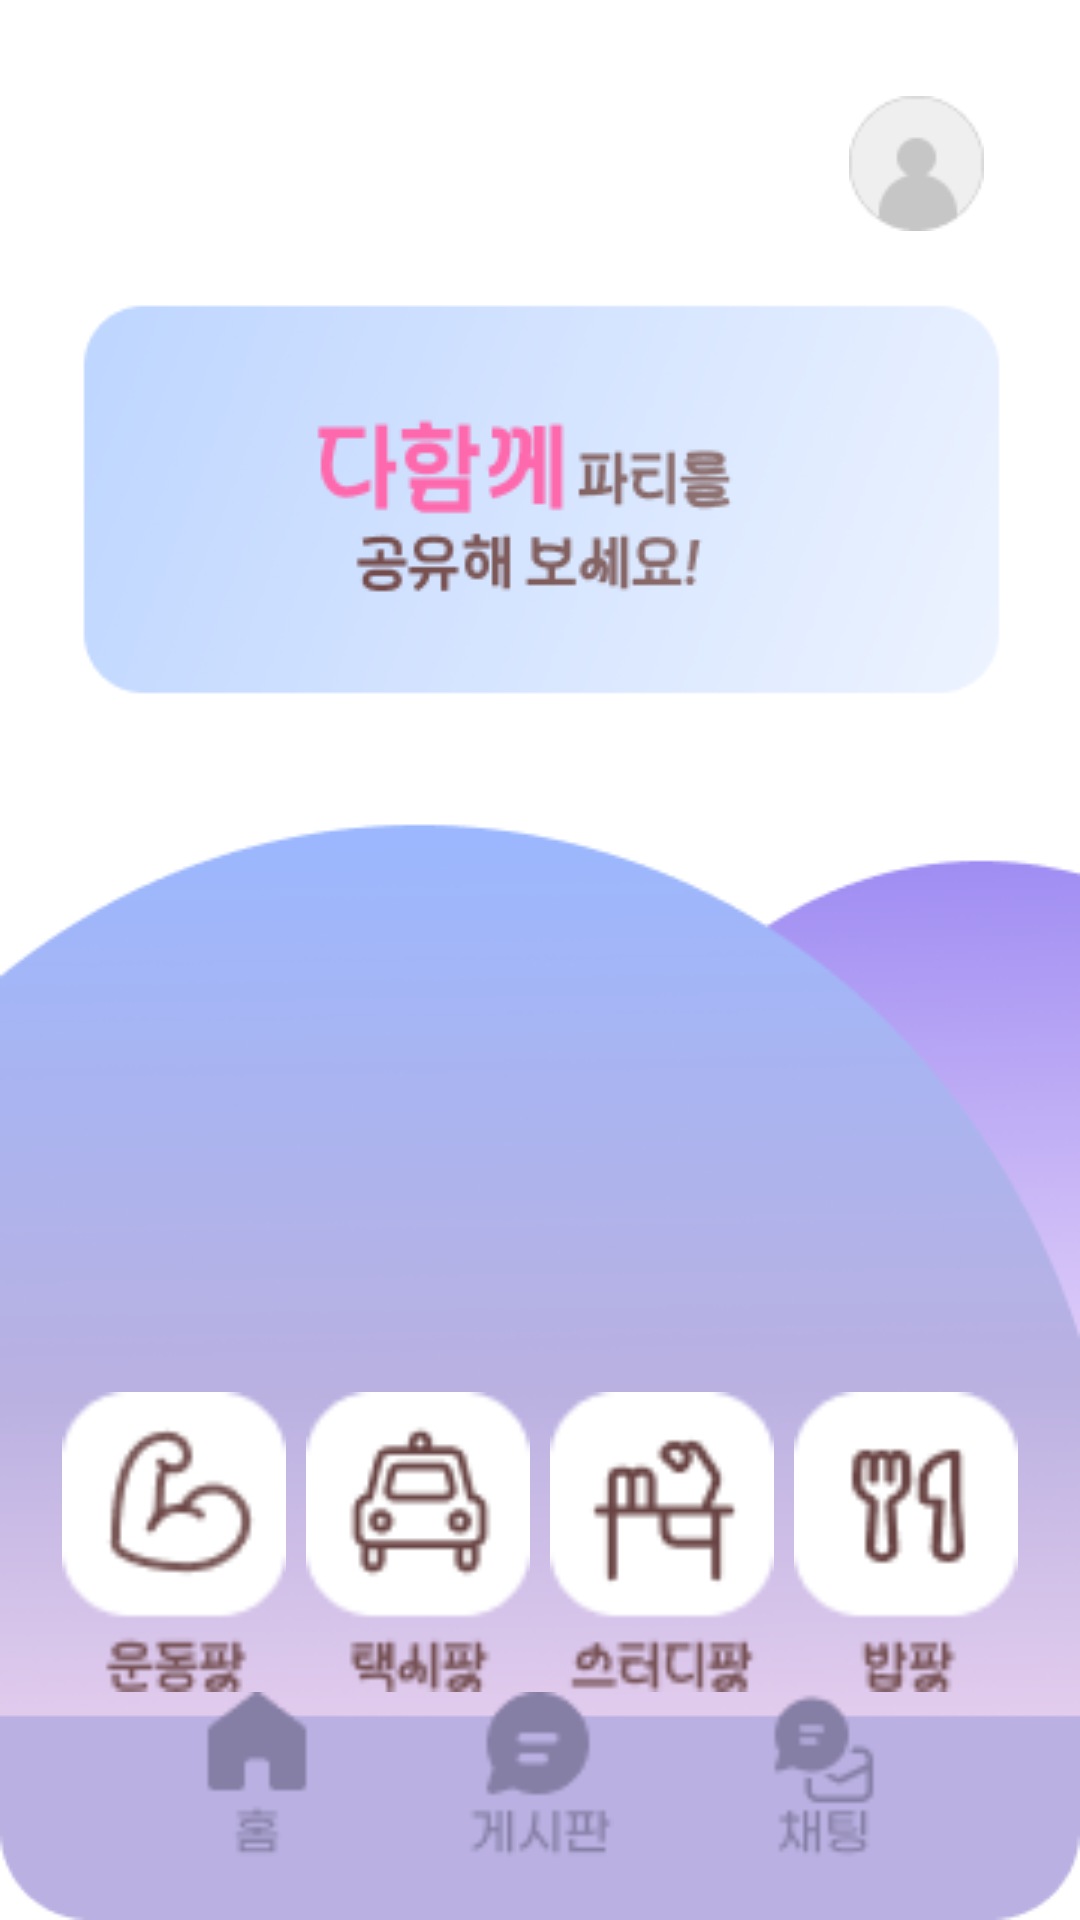

Screen size 1080 x 1920. Icon name, then its box in pixels as Rect(x1, y1, x2, y2):
User Icon: Rect(849, 96, 984, 231)
